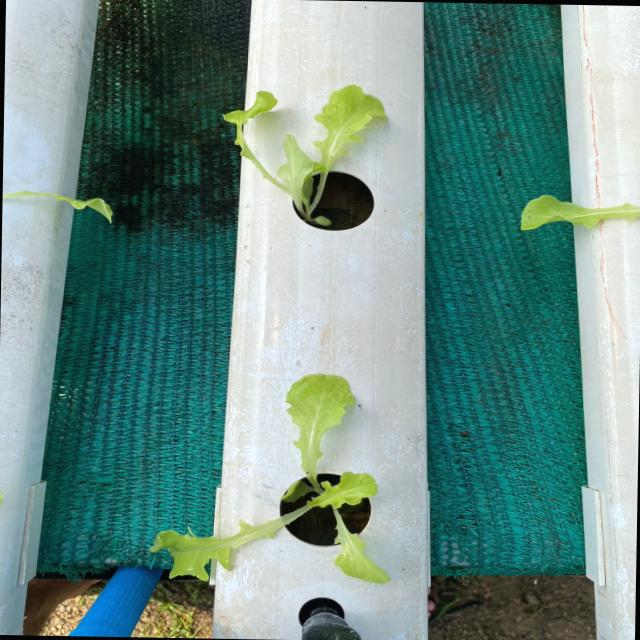Lettuce-Not-Ready-to-Harvest: (148, 360, 402, 598), (204, 78, 422, 240)
